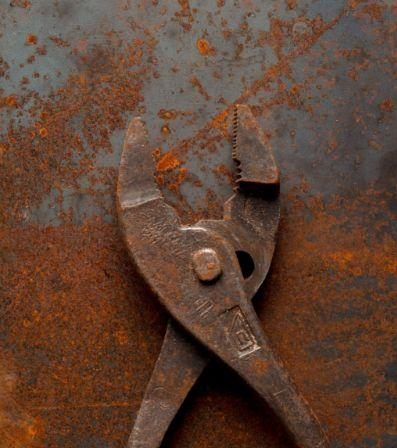metal: (115, 110, 335, 448)
